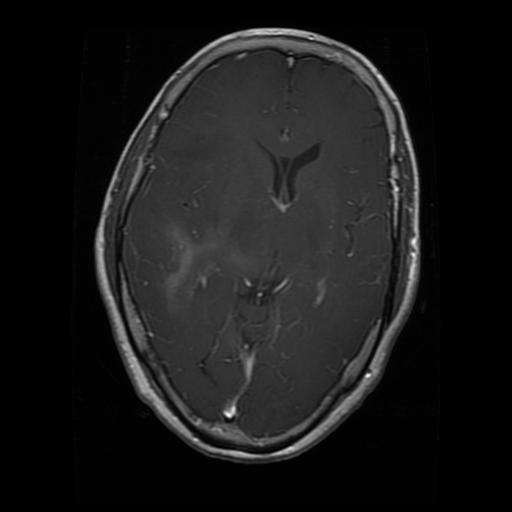Gliomia_tumour: (162, 221, 269, 314)
